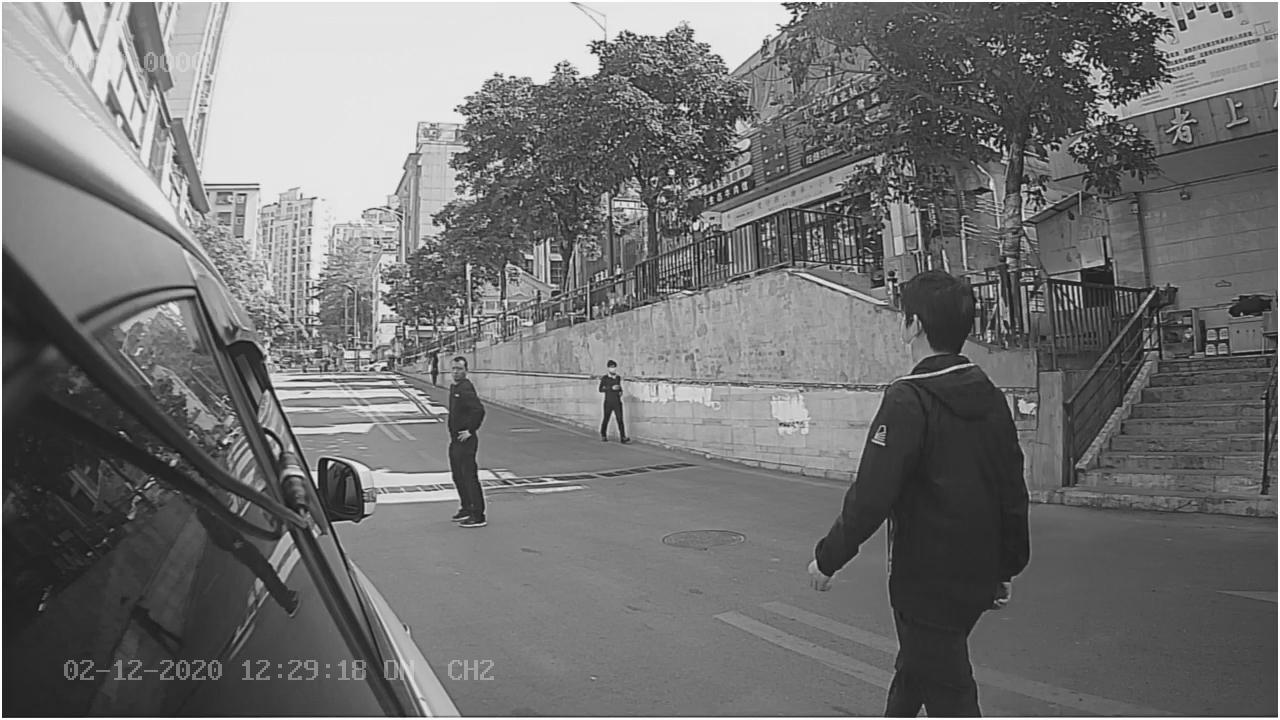person: (805, 261, 1030, 612), (428, 350, 505, 540)
